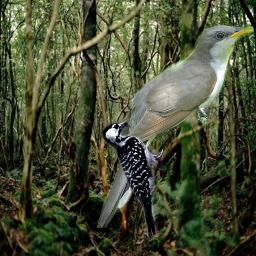Cuckoo: (97, 25, 254, 228)
Woodpecker: (101, 118, 163, 237)
